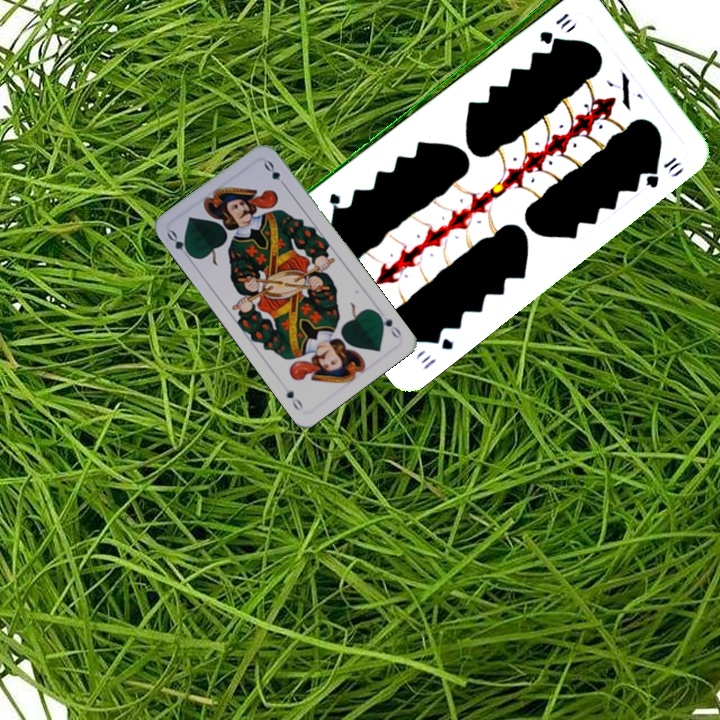G10: (417, 328, 456, 372), (535, 9, 574, 45)
GO: (163, 226, 195, 262), (373, 308, 404, 341)
